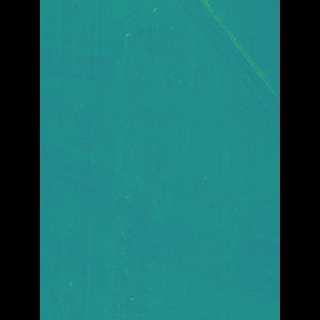Loch: (67, 9, 172, 320), (84, 150, 250, 306), (167, 0, 249, 131)
